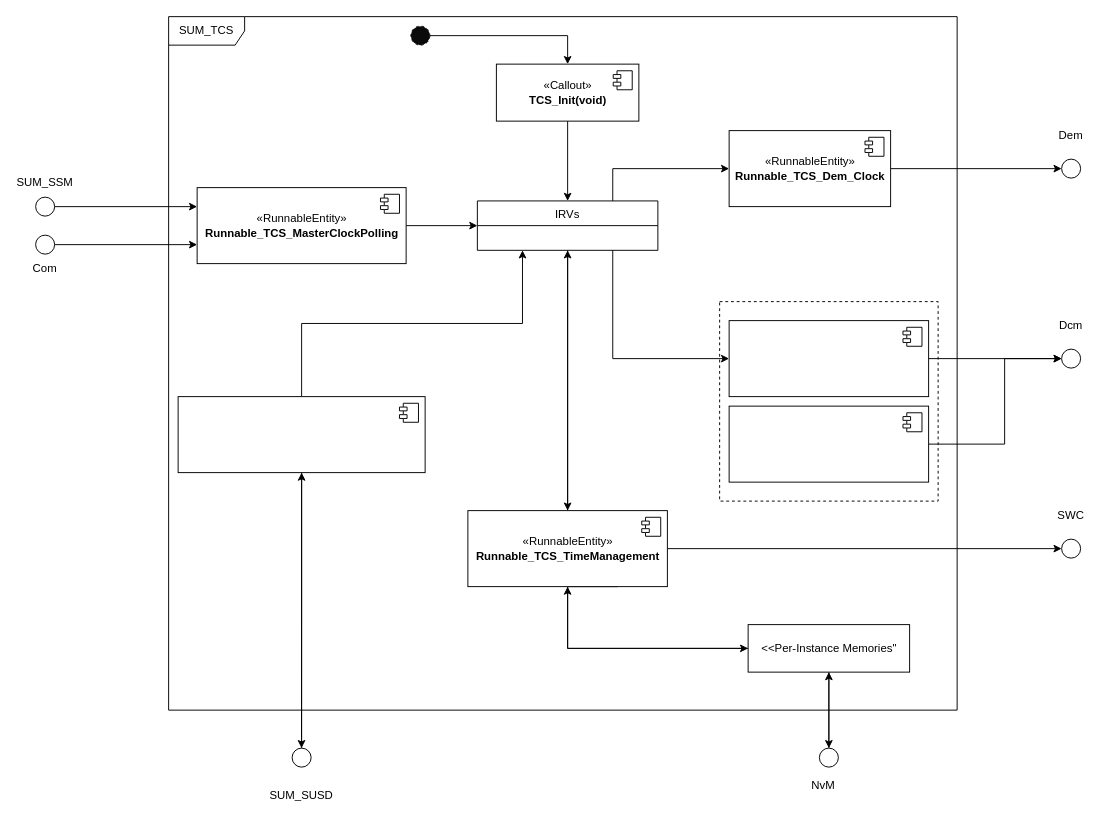
Image size: 1115x827. Some labels were removed from this diagram. Each missing label, with the box of its shape:
«RunnableEntity» Runnable_TCS_PermitExecutionShutdown: (177, 396, 425, 473)
«RunnableEntity» Runnable_TotalVehicleOpTm CheckRead: (728, 405, 929, 482)
«RunnableEntity» Runnable_TotalVehicleOpTmRead: (728, 320, 929, 397)
